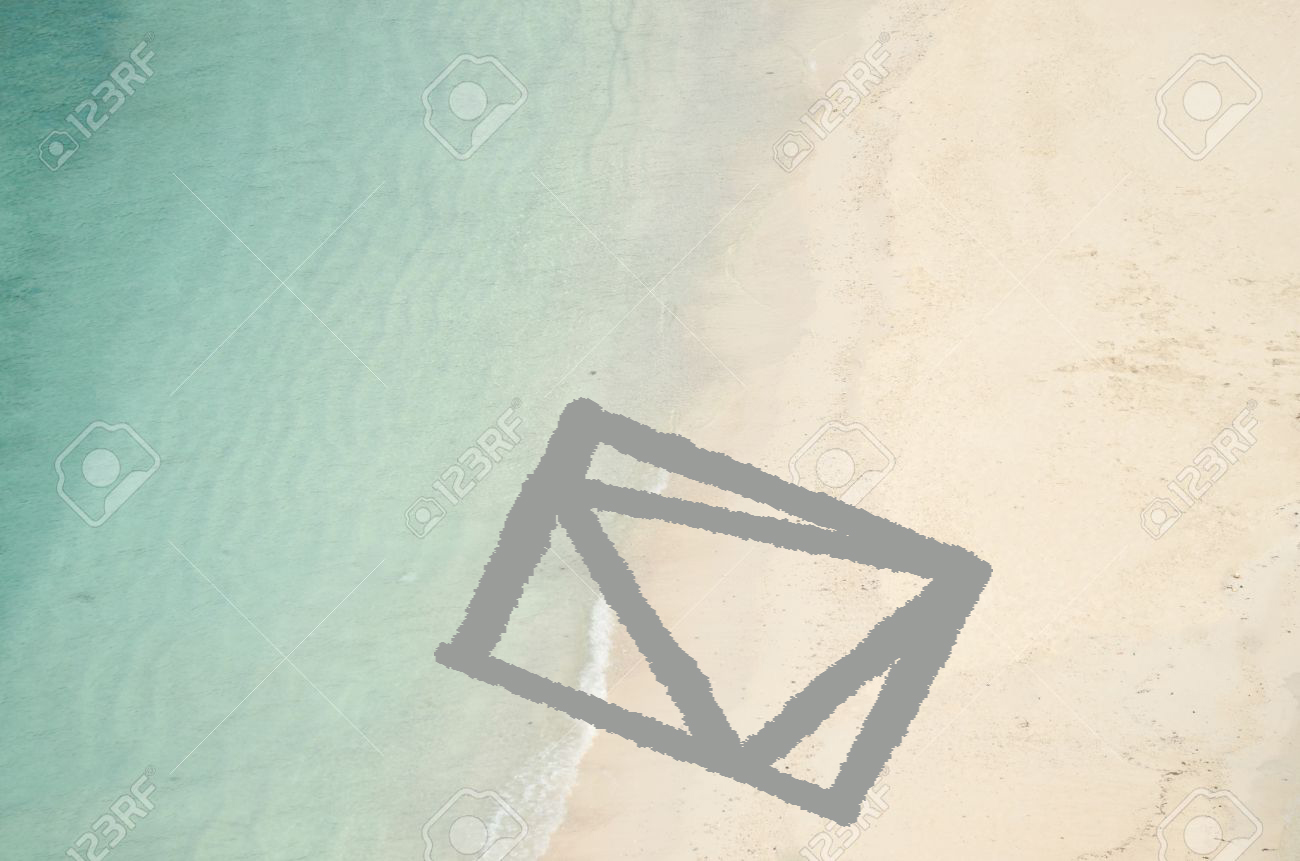marker: (436, 392, 1008, 849)
